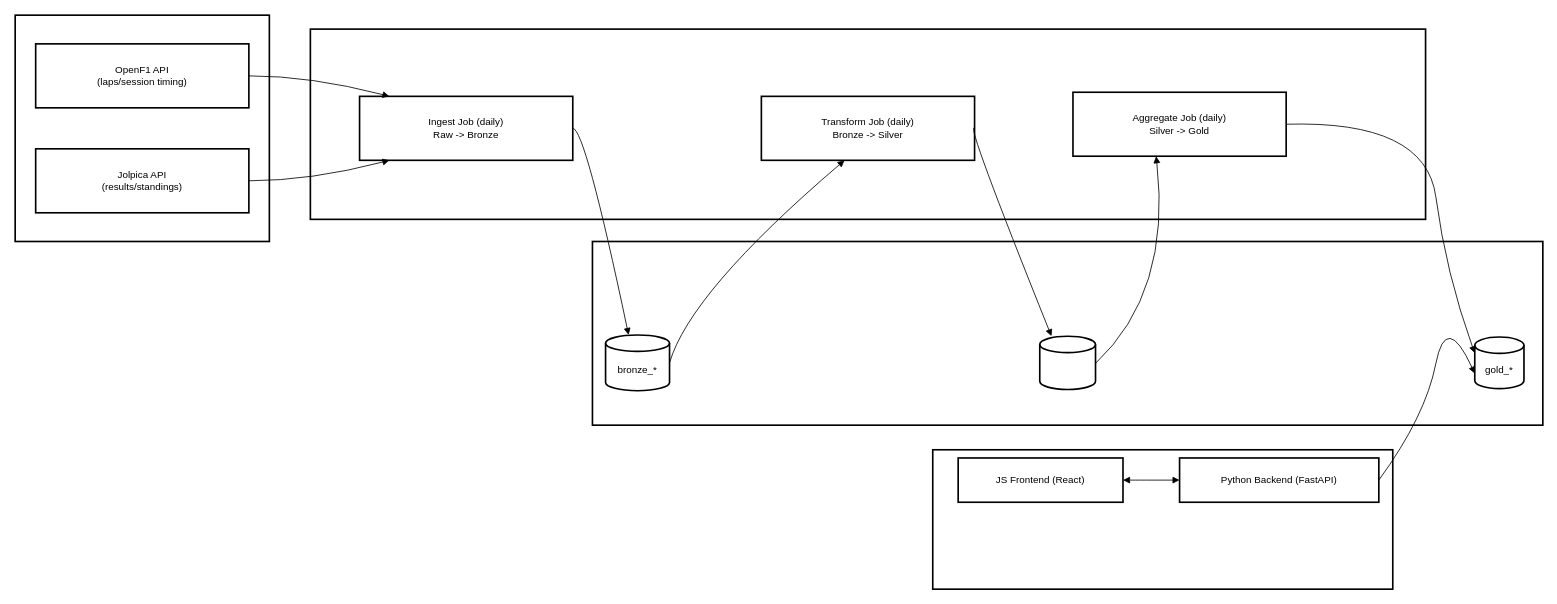
Some shapes in this 1557 by 604 pixel diagram are drawn without their labels. Each missing label, with the box of its shape:
Data Pipelines (PySpark Jobs): (309, 28, 1426, 220)
External APIs: (14, 14, 270, 242)
Lakehouse Storage (Object Storage + Delta tables): (591, 240, 1543, 426)
Results Explorer App: (932, 449, 1393, 590)
silver_*: (1039, 335, 1096, 390)
